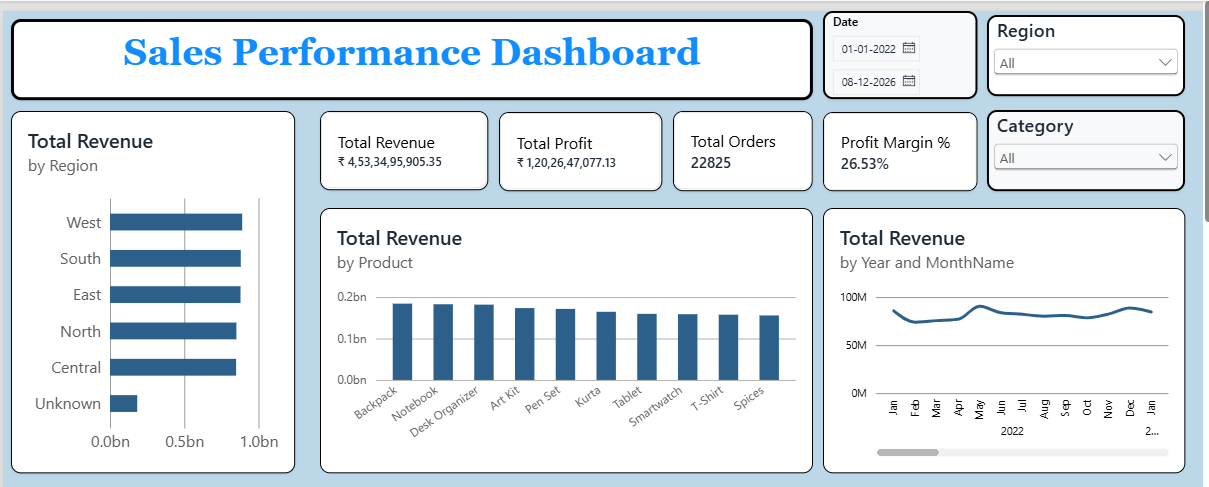

This screenshot's page, from the dashboard's own definition file:
{"tool":"powerbi","page":{"name":"Dashboard","canvas":[1920,1080],"ordinal":0},"visuals":[{"type":"cardVisual","fields":{"Data":["sales_data_clean.Total Revenue"]},"box":[320.2,101,169.7,79.8],"z":0},{"type":"cardVisual","fields":{"Data":["sales_data_clean.Total Profit"]},"box":[501,102,164.6,79.8],"z":1000},{"type":"cardVisual","fields":{"Data":["sales_data_clean.Total Orders"]},"box":[676.8,101,141.4,80.8],"z":2000},{"type":"cardVisual","fields":{"Data":["sales_data_clean.Profit Margin %"]},"box":[828,102,156,80],"z":3000},{"type":"lineChart","fields":{"Y":["sales_data_clean.Total Revenue"],"Category":["DateTable.Year","DateTable.MonthName"]},"box":[828,199,366,268],"z":4000},{"type":"clusteredBarChart","fields":{"Category":["sales_data_clean.Region"],"Y":["sales_data_clean.Total Revenue"]},"box":[8,101,287,366],"z":5000},{"type":"clusteredColumnChart","fields":{"Category":["sales_data_clean.Product"],"Y":["sales_data_clean.Total Revenue"]},"box":[320.2,199,498,267.7],"z":6000},{"type":"slicer","fields":{"Values":["sales_data_clean.Region"]},"box":[994,4,200,82.3],"z":7000},{"type":"slicer","fields":{"Values":["sales_data_clean.Category"]},"box":[994,100,200,82.3],"z":8000},{"type":"slicer","fields":{"Values":["DateTable.Date"]},"box":[828.3,0,155.6,88.9],"z":9000},{"type":"textbox","box":[8.1,8.1,810.1,81.8],"z":10000}]}

Visuals, with their boxes on the page's 1920x1080 design canvas (x1, y1, x2, y2). These are canvas units, not pixel positions in the 1209x487 screenshot, which may show the page scaled, cropped or inside an application window:
cardVisual - sales_data_clean.Total Revenue: pyautogui.locateOnScreen(320, 101, 490, 181)
cardVisual - sales_data_clean.Total Profit: pyautogui.locateOnScreen(501, 102, 666, 182)
cardVisual - sales_data_clean.Total Orders: pyautogui.locateOnScreen(677, 101, 818, 182)
cardVisual - sales_data_clean.Profit Margin %: pyautogui.locateOnScreen(828, 102, 984, 182)
lineChart - sales_data_clean.Total Revenue x DateTable.Year: pyautogui.locateOnScreen(828, 199, 1194, 467)
clusteredBarChart - sales_data_clean.Region x sales_data_clean.Total Revenue: pyautogui.locateOnScreen(8, 101, 295, 467)
clusteredColumnChart - sales_data_clean.Product x sales_data_clean.Total Revenue: pyautogui.locateOnScreen(320, 199, 818, 467)
slicer - sales_data_clean.Region: pyautogui.locateOnScreen(994, 4, 1194, 86)
slicer - sales_data_clean.Category: pyautogui.locateOnScreen(994, 100, 1194, 182)
slicer - DateTable.Date: pyautogui.locateOnScreen(828, 0, 984, 89)
textbox: pyautogui.locateOnScreen(8, 8, 818, 90)
